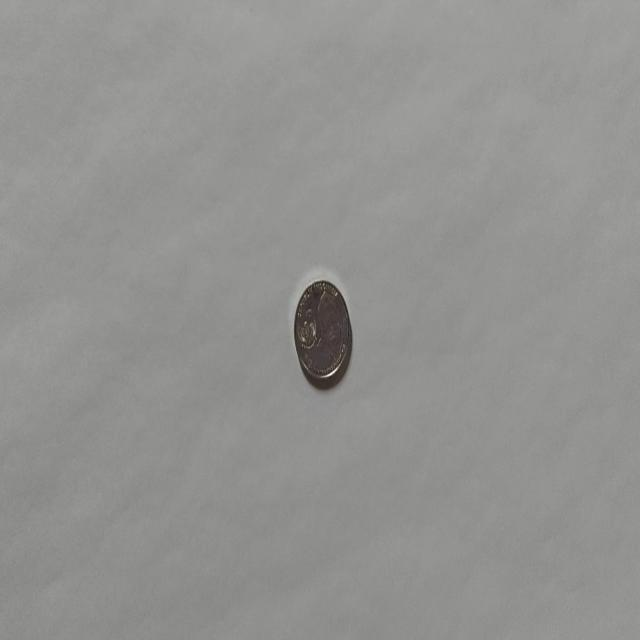dua ratus rupiah: (292, 277, 352, 385)
